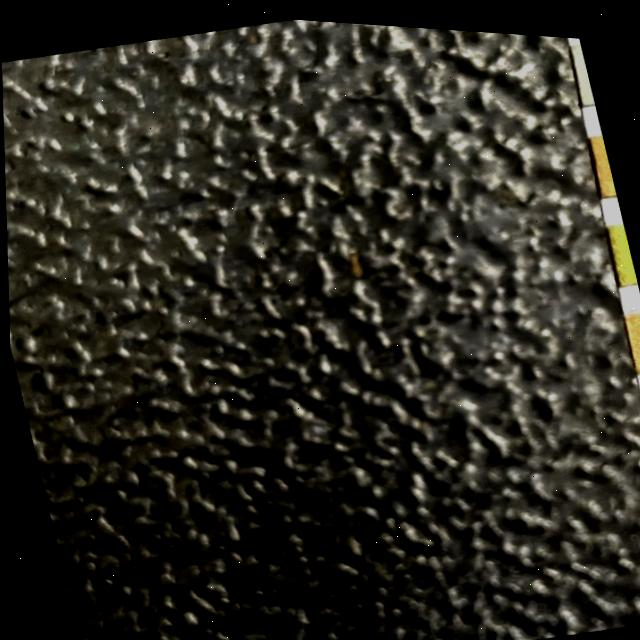Nitrite: (568, 34, 594, 97)
Protein: (606, 215, 636, 276)
Urobilinogen: (587, 125, 615, 189)
pH: (620, 301, 640, 364)
